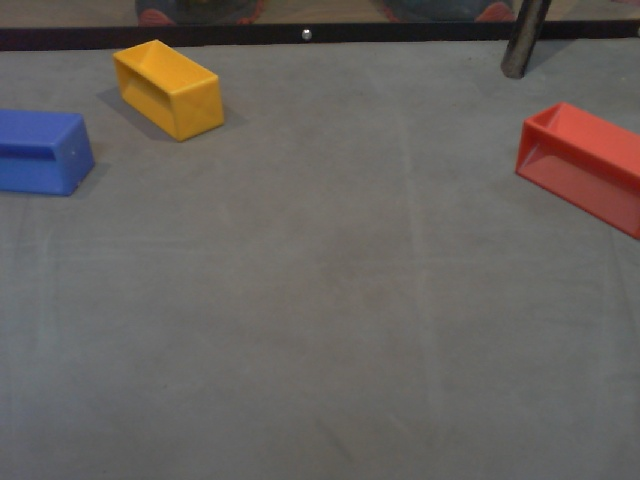BlueSample: (1, 104, 96, 200)
RedSample: (510, 95, 640, 245)
YellowSample: (109, 35, 226, 143)
